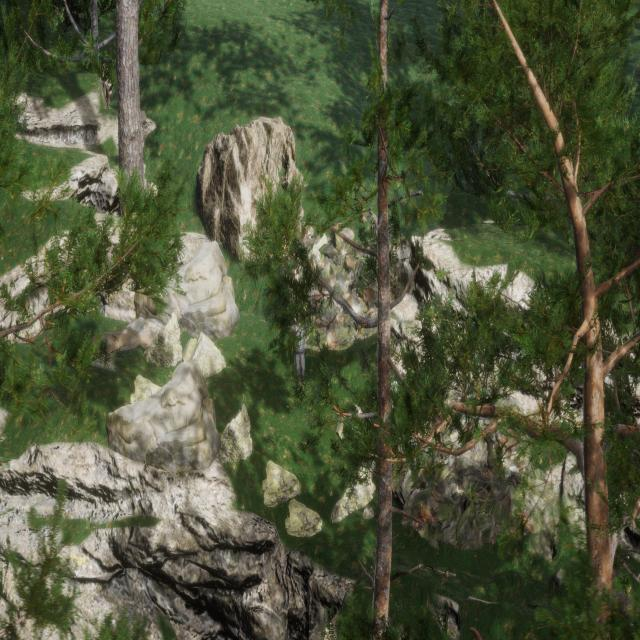Human: (288, 300, 309, 398)
